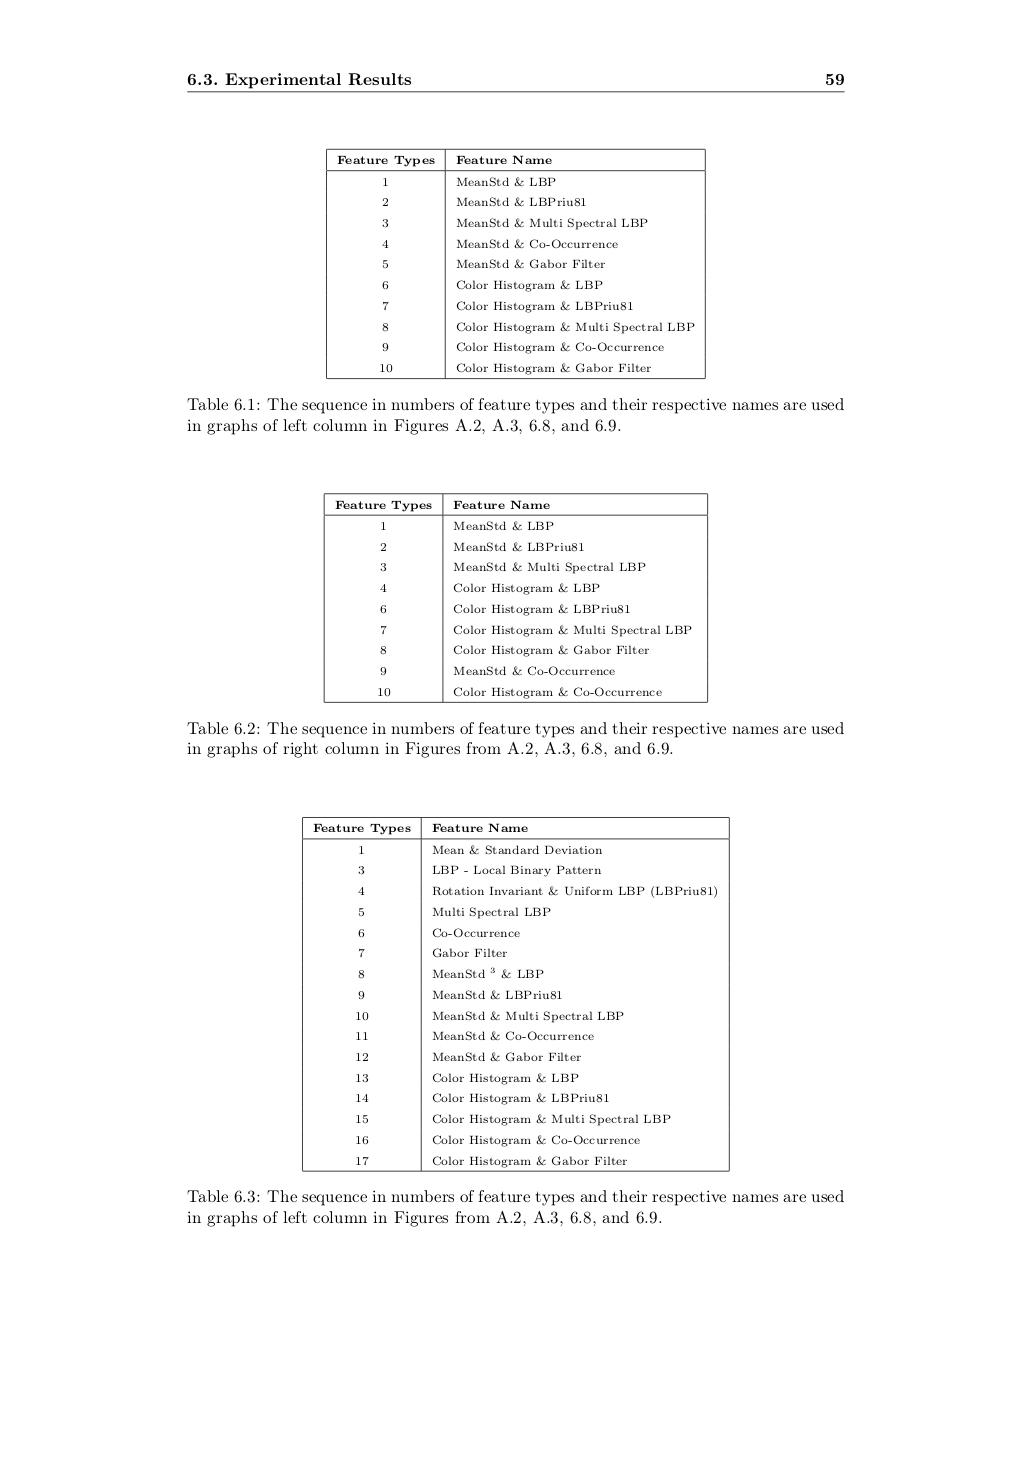Table: (302, 815, 729, 1172), (326, 147, 705, 380), (322, 492, 709, 703)
